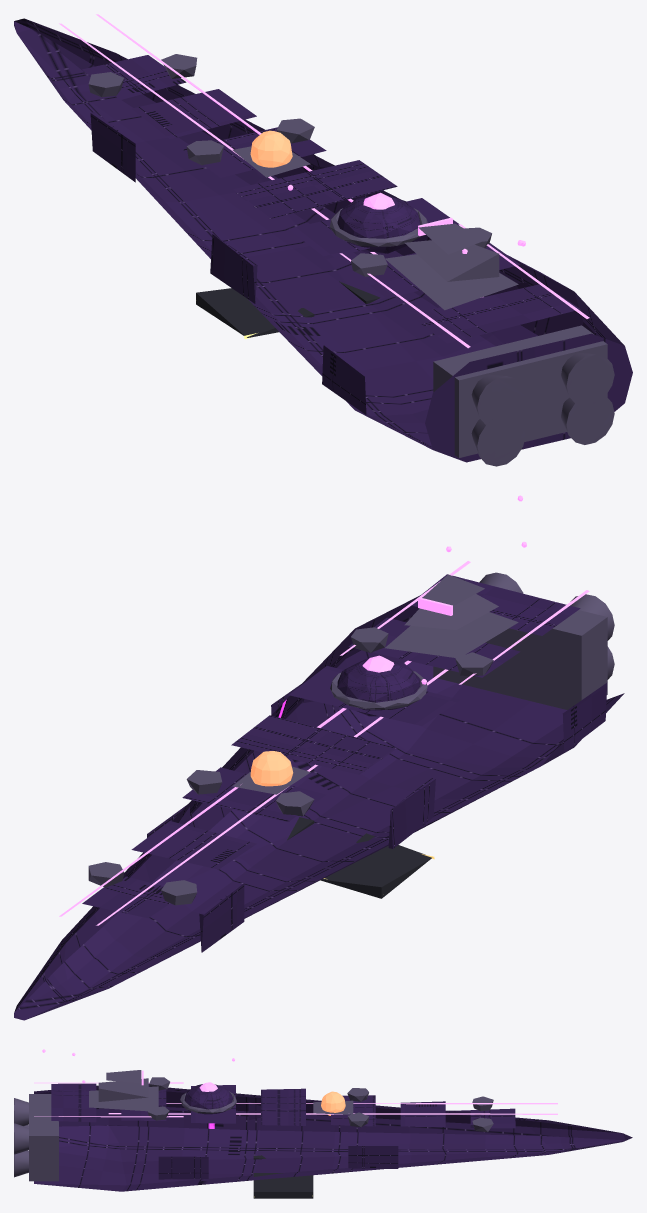
The model's file is ravager_lod1.glb.
The picture shows the model from 3 angles, top to bottom: view 1: azimuth 30°, elevation 25°; view 2: azimuth 150°, elevation 25°; view 3: azimuth 270°, elevation 25°; orthographic projection. The views are drawn at different scales.
Visible parts, largest first — view 1: Hull, ArmorPlates, EngineBlock, Bridge, TurretBases, ShieldDome, Hangars, EnergyStrips, Core, ShieldRing, CoreGrille; view 2: Hull, ArmorPlates, EngineBlock, Bridge, TurretBases, Hangars, ShieldDome, EnergyStrips, Core, ShieldRing; view 3: Hull, ArmorPlates, EngineBlock, Bridge, TurretBases, Hangars, EnergyStrips, ShieldDome, Core, ShieldRing, CoreGrille.
Boxes of the visible parts, x1,y1,x2,y2 form: Hull: [14, 18, 632, 462]; ArmorPlates: [82, 55, 580, 414]; EngineBlock: [433, 325, 614, 466]; Bridge: [385, 223, 518, 310]; TurretBases: [88, 54, 491, 276]; ShieldDome: [337, 195, 420, 253]; Hangars: [196, 281, 380, 339]; EnergyStrips: [59, 14, 589, 348]; Core: [250, 130, 292, 167]; ShieldRing: [330, 208, 427, 246]; CoreGrille: [232, 146, 310, 177]; Hull: [14, 595, 624, 1020]; ArmorPlates: [82, 574, 607, 952]; EngineBlock: [433, 572, 614, 709]; Bridge: [385, 574, 518, 657]; TurretBases: [88, 627, 493, 905]; Hangars: [287, 817, 434, 898]; ShieldDome: [337, 658, 420, 716]; EnergyStrips: [59, 561, 589, 925]; Core: [250, 751, 293, 786]; ShieldRing: [330, 671, 427, 709]; Hull: [34, 1085, 632, 1191]; ArmorPlates: [51, 1083, 515, 1179]; EngineBlock: [14, 1094, 58, 1181]; Bridge: [89, 1070, 158, 1111]; TurretBases: [147, 1077, 493, 1132]; Hangars: [253, 1155, 313, 1198]; EnergyStrips: [34, 1082, 557, 1117]; ShieldDome: [184, 1084, 233, 1114]; Core: [321, 1091, 345, 1115]; ShieldRing: [180, 1091, 236, 1113]; CoreGrille: [313, 1100, 353, 1114].
Size of the model in its own units: 32.3 by 27.41 by 124.
7 materials, 2 textured.
